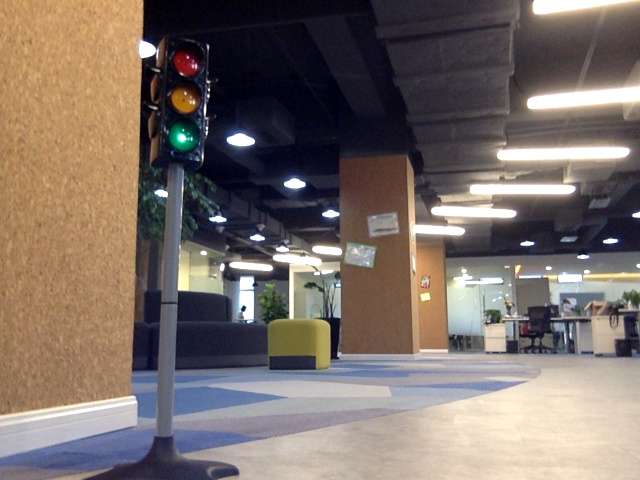green: (161, 44, 199, 156)
